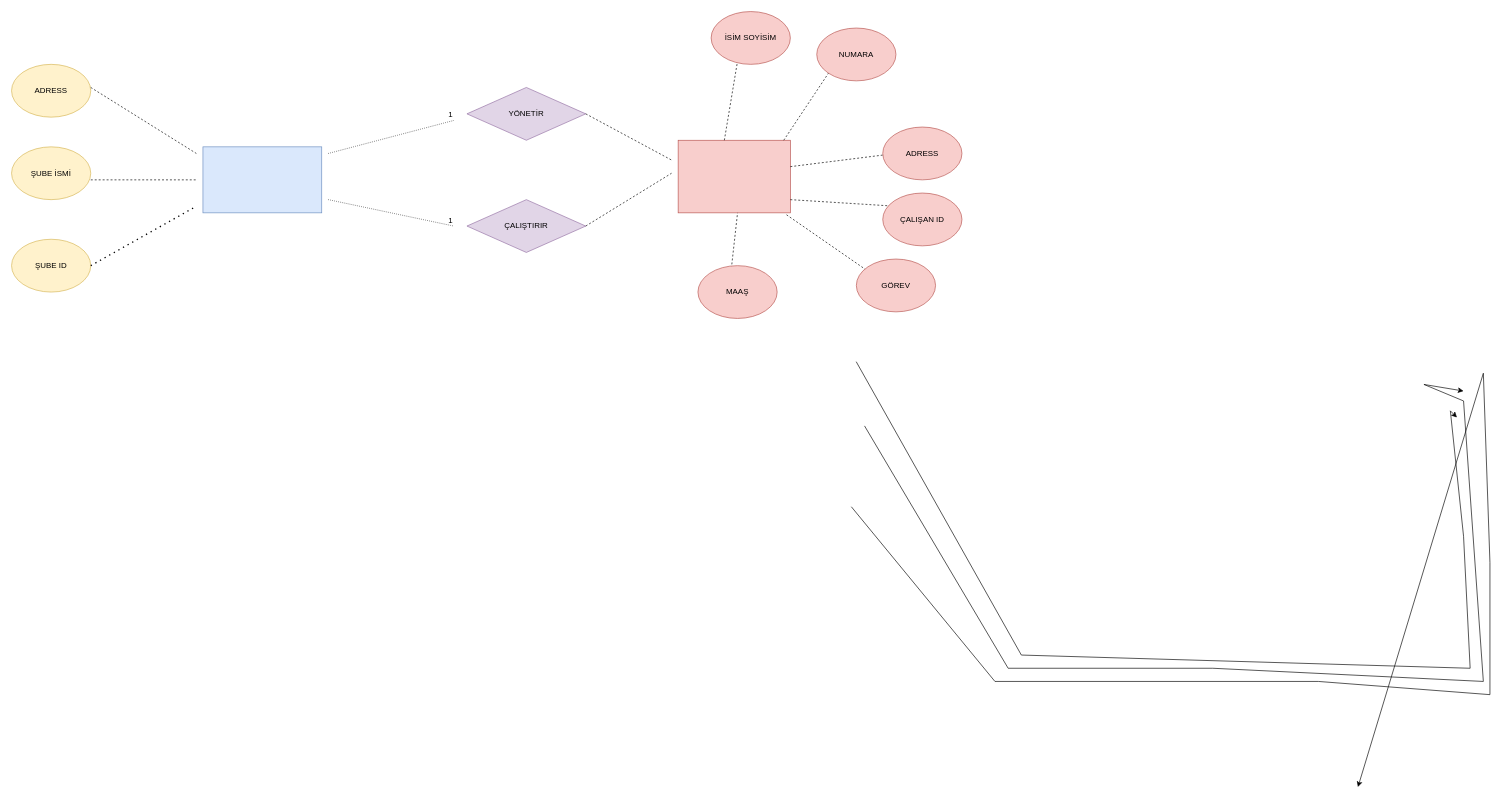
This 1507x804 diagram has some shape labels left out. The box of each missing label's shape, as (x1, y1, x2, y2) in pixels:
ÇALIŞAN: (677, 140, 790, 213)
ŞUBE: (202, 146, 322, 213)
